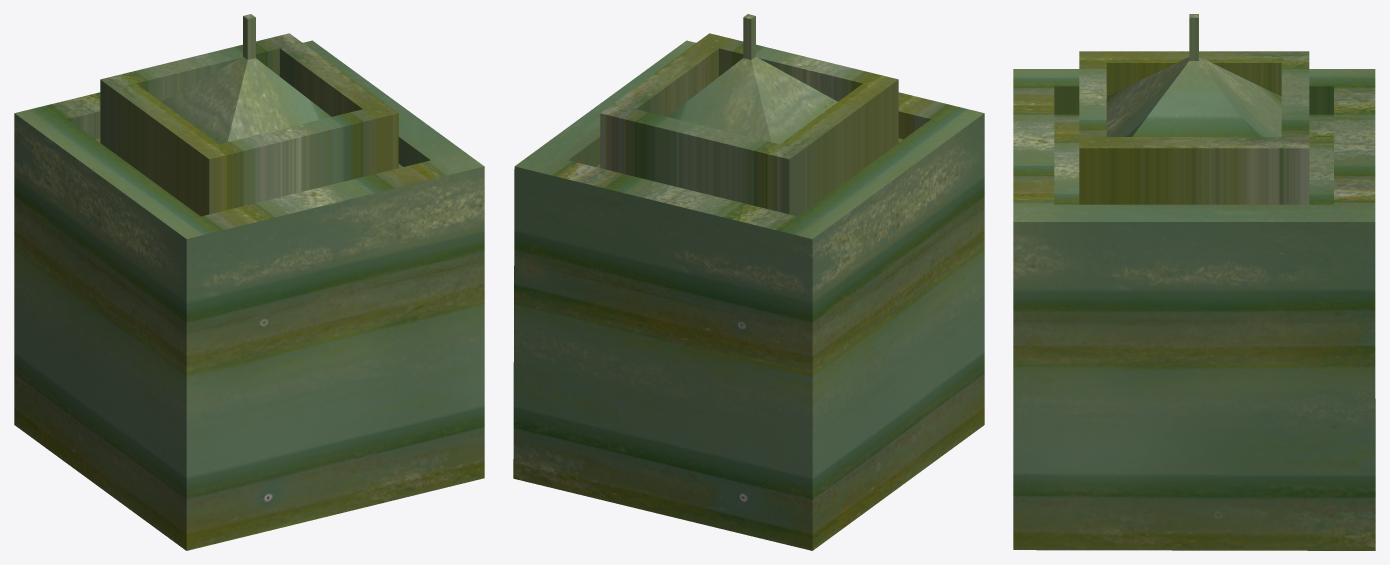
Rendered from MyBlenderModel.glb.
The picture shows the model from 3 angles, left to right: view 1: azimuth 30°, elevation 25°; view 2: azimuth 150°, elevation 25°; view 3: azimuth 270°, elevation 25°; orthographic projection. The views are drawn at different scales.
Parts seen in each view (by area): view 1: Cube; view 2: Cube; view 3: Cube.
Part boxes in pixels (x1,y1,x2,y2): Cube: (14,14,484,550); Cube: (513,14,984,550); Cube: (1013,14,1375,550).
Size of the model in its own units: 2.01 by 2.79 by 2.
Materials: 1 (1 with a texture image).
